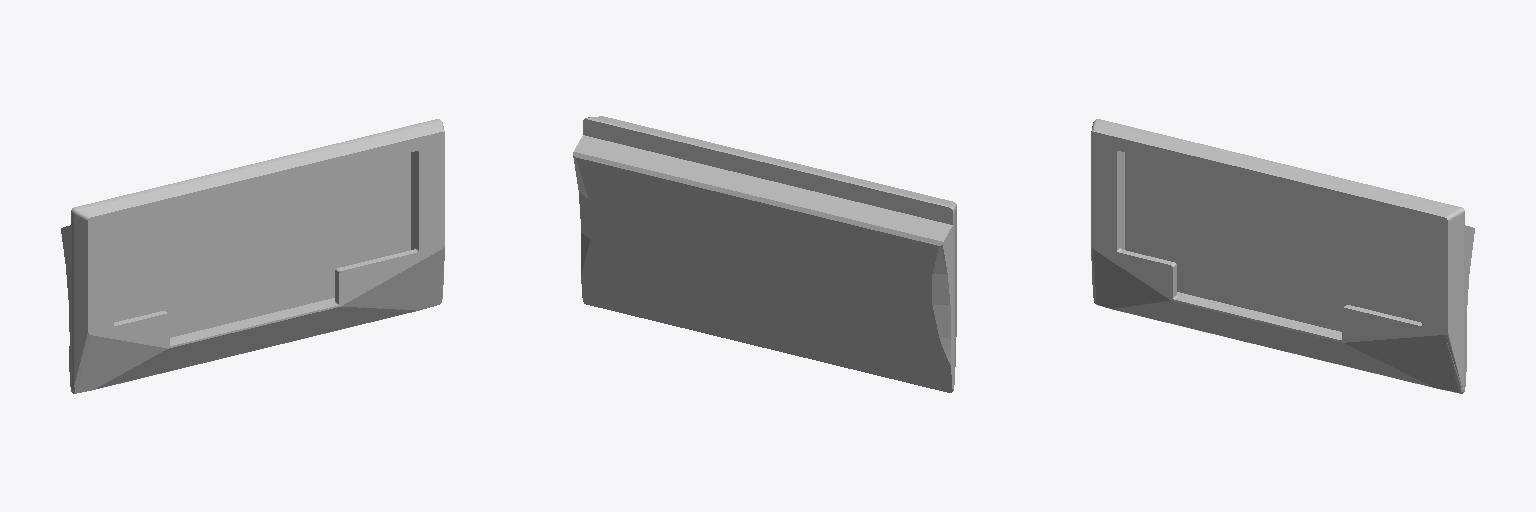
The model's file is Case-Body.obj.
The picture shows the model from 3 angles: view 1: azimuth 30°, elevation 25°; view 2: azimuth 150°, elevation 25°; view 3: azimuth 330°, elevation 25°; orthographic projection.
Parts seen in each view (by area): view 1: Body; view 2: Body; view 3: Body.
Boxes of the visible parts, box(x1,y1,x2,y2) form: Body: box(61, 119, 444, 393); Body: box(573, 116, 956, 392); Body: box(1091, 119, 1474, 393).
Size of the model in its own units: 219 by 105 by 21.78.